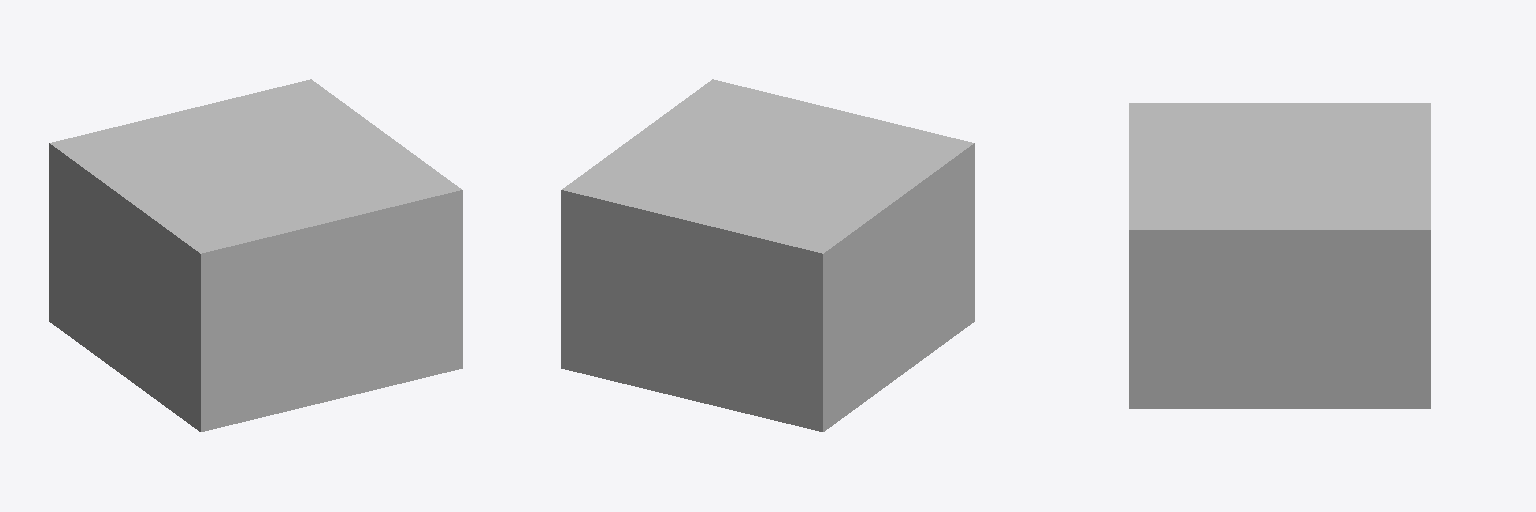
The model's file is room.obj.
3 views of the same model, side by side, from view 1: azimuth 30°, elevation 25°; view 2: azimuth 150°, elevation 25°; view 3: azimuth 270°, elevation 25° (orthographic).
Visible parts, largest first — view 1: Cube; view 2: Cube; view 3: Cube.
Part boxes in pixels (bbox=[...]): Cube: bbox=[49, 79, 462, 431]; Cube: bbox=[561, 79, 974, 431]; Cube: bbox=[1129, 103, 1430, 408].
Bounding box in the file's own units: 28.94 × 18.9 × 28.94.